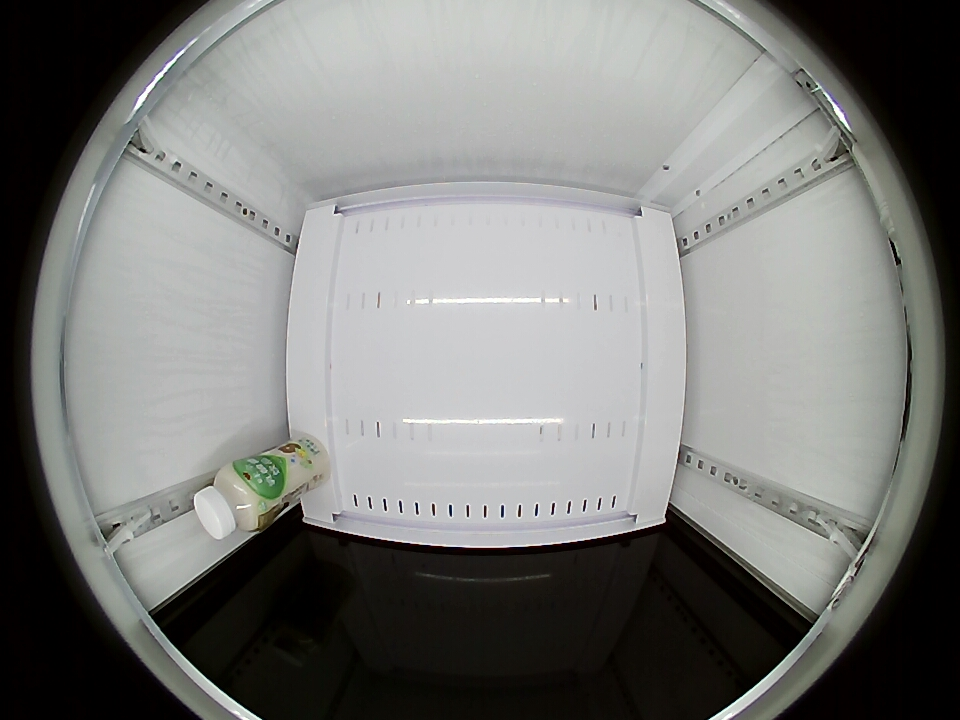yousuanru: (193, 461, 271, 540)
